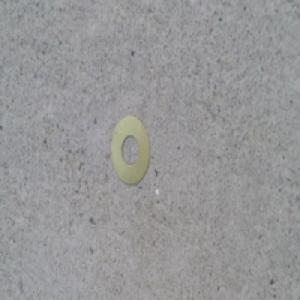Washer: (109, 114, 151, 185)
